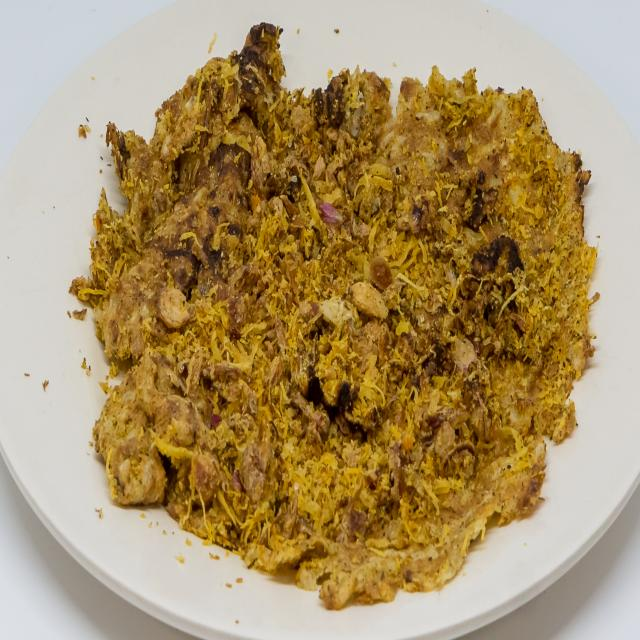Kerak-Telor: (66, 8, 598, 617)
